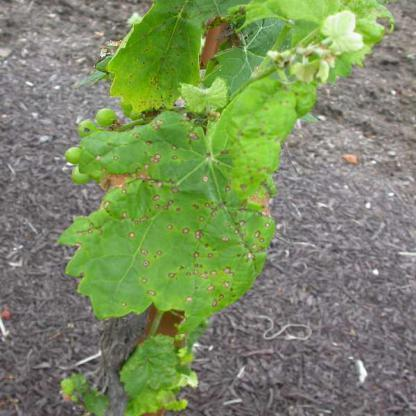grape leaf: (42, 76, 308, 351), (102, 2, 218, 114)
